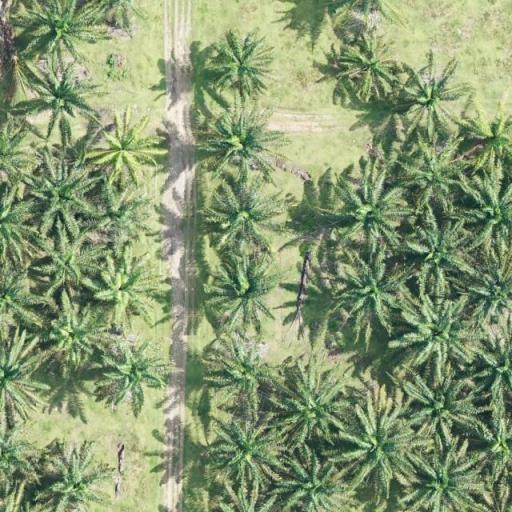Ganoderma: (406, 73, 456, 121), (99, 126, 148, 170)
